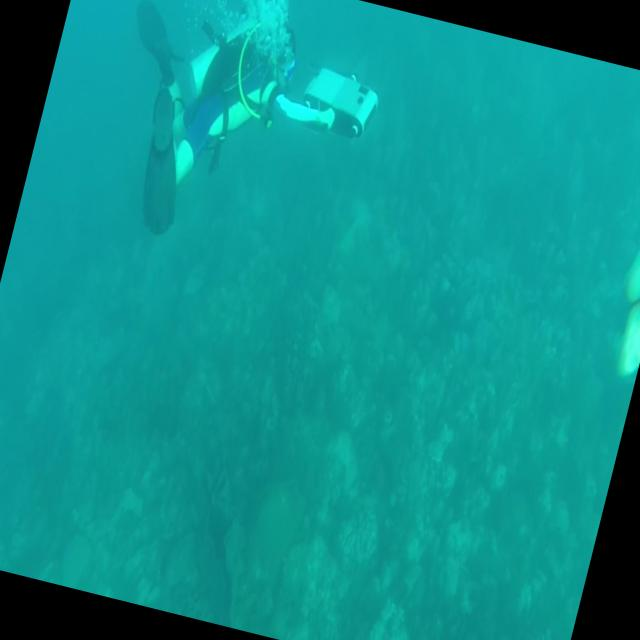human: (83, 0, 304, 257)
